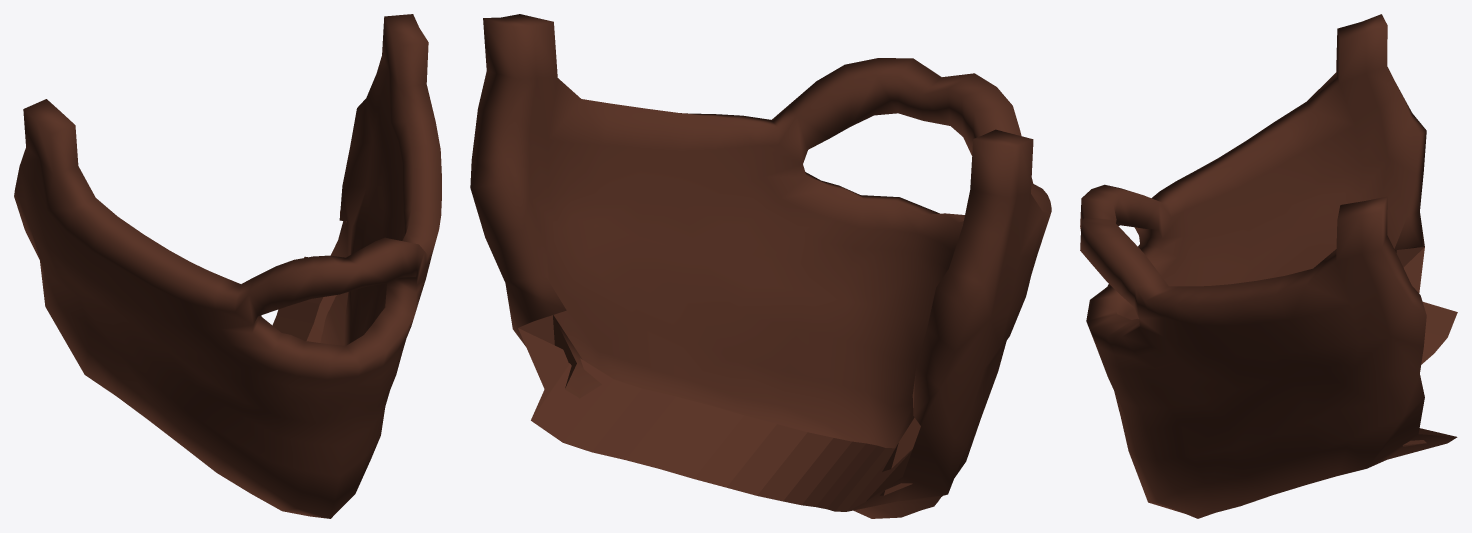
The model's file is LongBeard.fbx.
3 views of the same model, side by side, from view 1: azimuth 30°, elevation 25°; view 2: azimuth 150°, elevation 25°; view 3: azimuth 270°, elevation 25° (orthographic). The views are drawn at different scales.
Parts seen in each view (by area): view 1: LongBeard; view 2: LongBeard; view 3: LongBeard.
Boxes of the visible parts, x1=… form: LongBeard: x1=14, y1=14, x2=441, y2=518; LongBeard: x1=470, y1=14, x2=1051, y2=518; LongBeard: x1=1080, y1=14, x2=1457, y2=518.
Size of the model in its own units: 0.1466 by 0.1402 by 0.1185.
